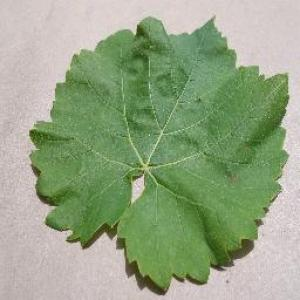Folha: (27, 14, 289, 294)
